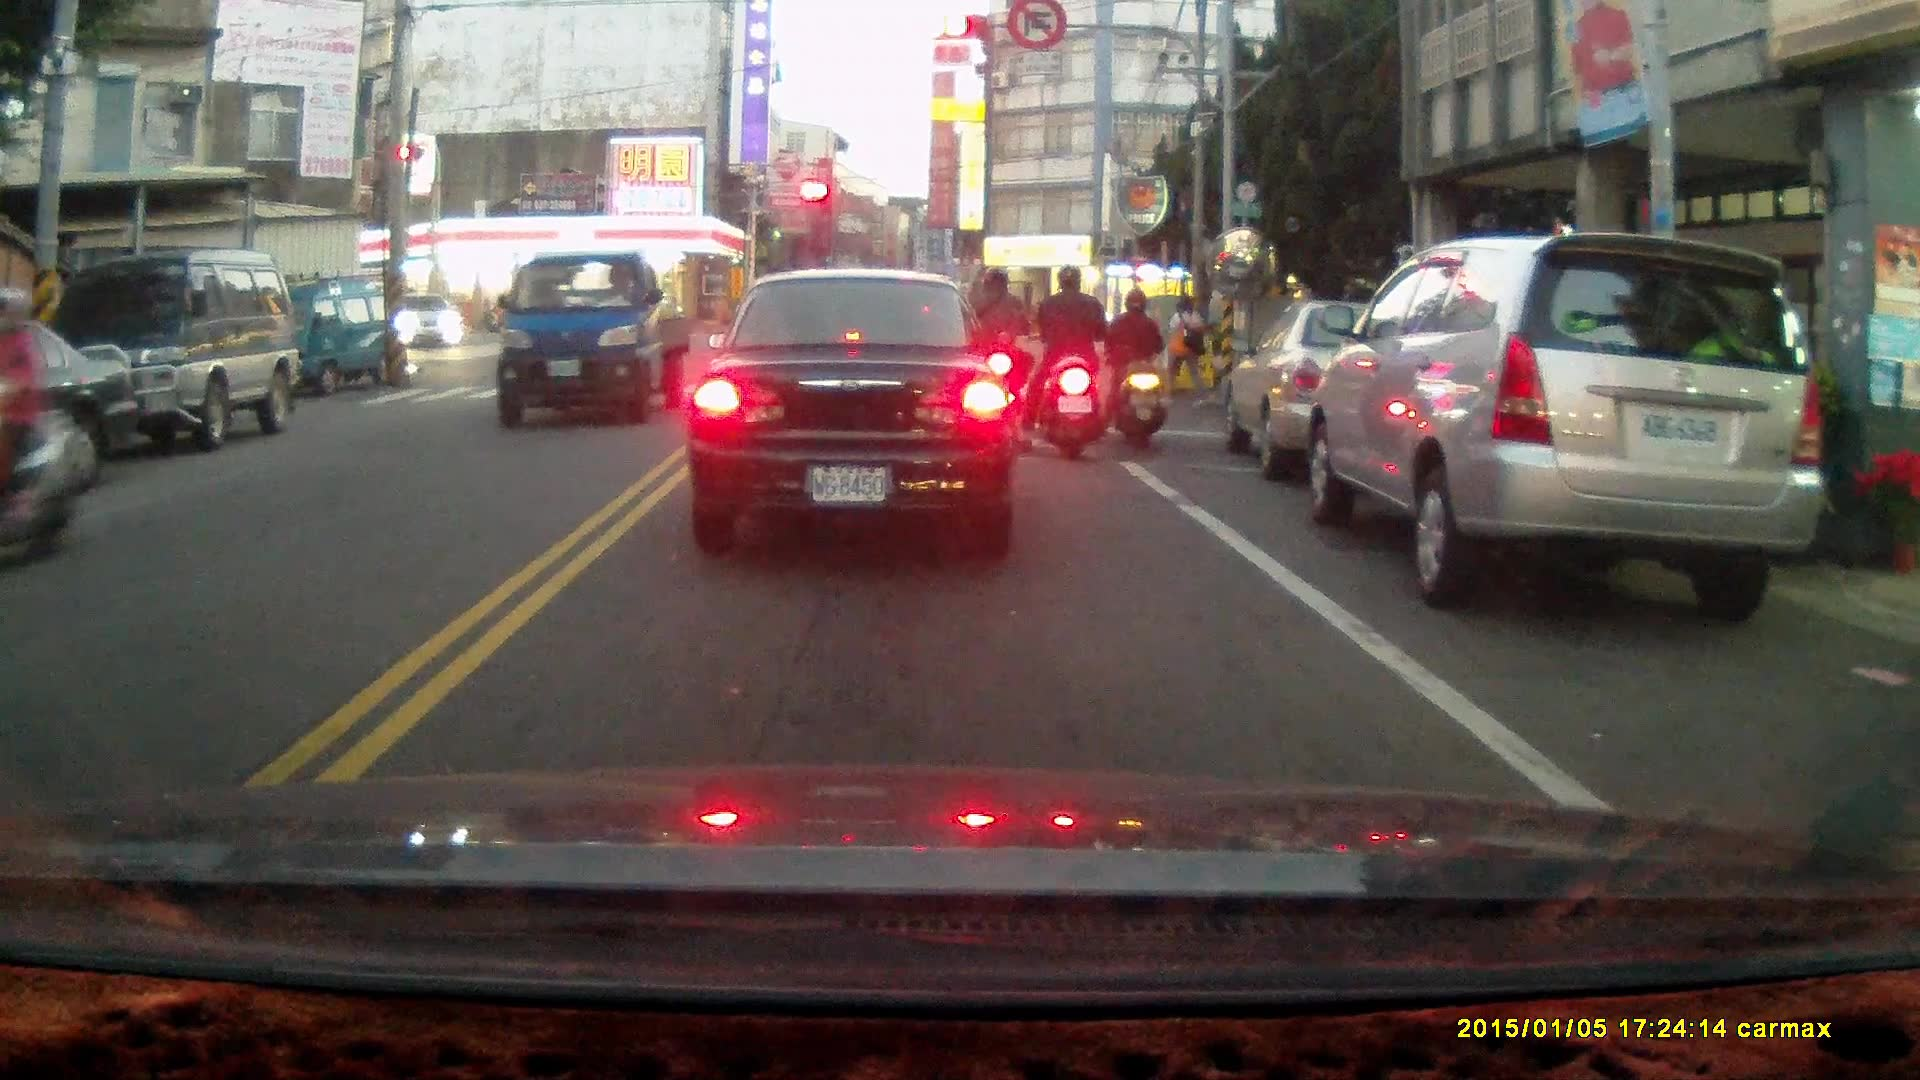pedestrian: (1159, 289, 1213, 410)
rider: (0, 280, 80, 569), (1024, 263, 1117, 460), (963, 266, 1033, 441), (1105, 285, 1171, 448)
vehicle: (1312, 227, 1836, 616), (688, 266, 1023, 550), (43, 242, 299, 452), (1227, 300, 1487, 486), (500, 251, 691, 419), (1, 315, 145, 494), (263, 271, 418, 402)
